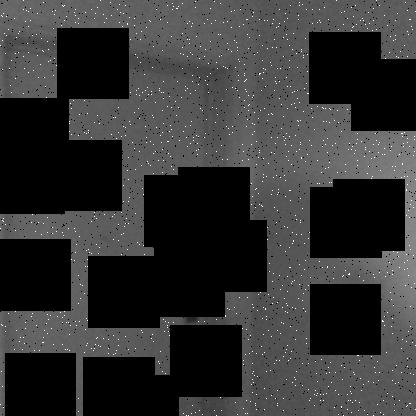Porte: (0, 21, 240, 416)
